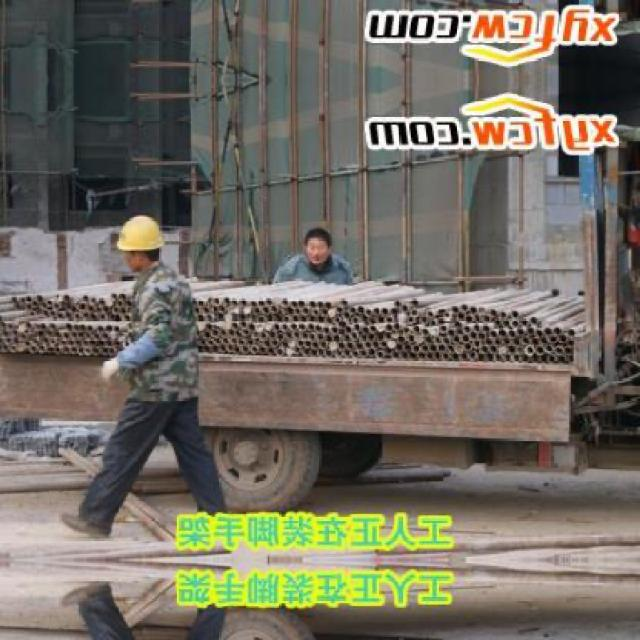con casco: (50, 216, 195, 305)
sin casco: (272, 214, 358, 296)
